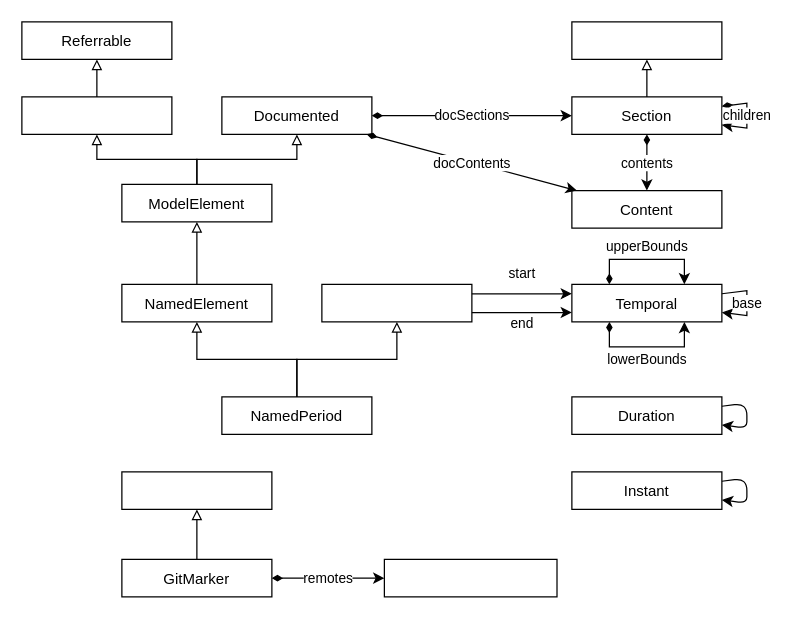
Some shapes in this 793 by 619 pixel diagram are drawn without their labels. The centre of each missing label's shape, as x and y in pixels:
"Marker" belongs at point (196, 490).
"Period" belongs at point (396, 302).
"SectionReference" belongs at point (646, 40).
"StringIdentity" belongs at point (96, 115).
"StringToStringMapEntry" belongs at point (470, 577).
